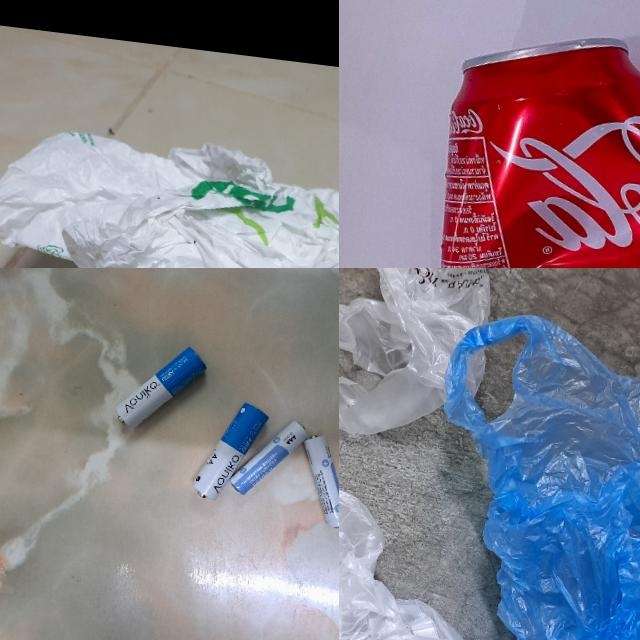bateria: (112, 338, 206, 438), (189, 396, 269, 506), (227, 413, 306, 502), (293, 432, 339, 529)
lata: (401, 20, 640, 268)
sacola plástica: (401, 306, 640, 640), (0, 114, 339, 268), (339, 468, 516, 640), (339, 268, 506, 450)
